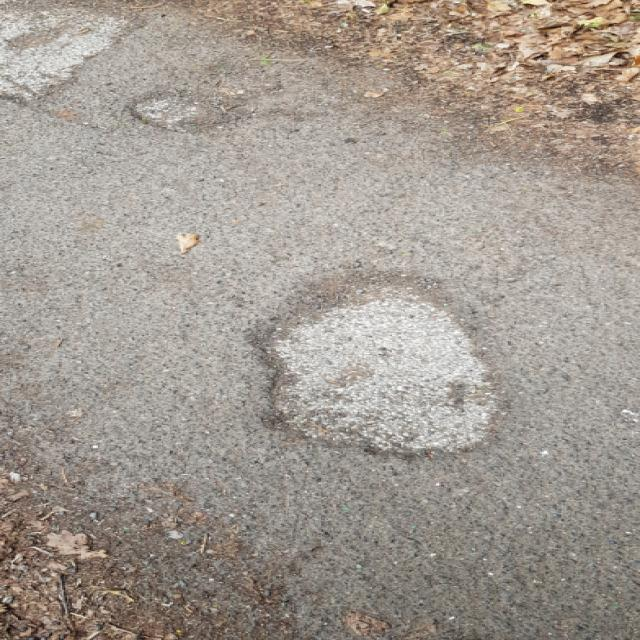pothole: (238, 262, 510, 455), (0, 0, 147, 107), (123, 88, 240, 134)
